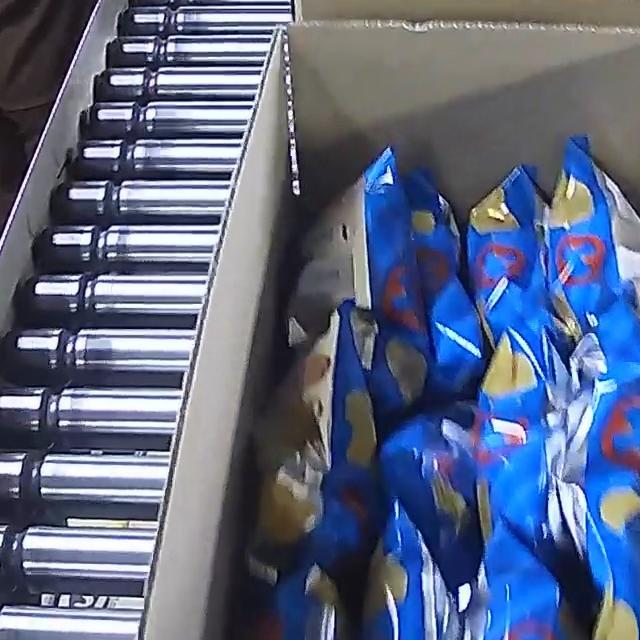paprika: (234, 130, 640, 640)
